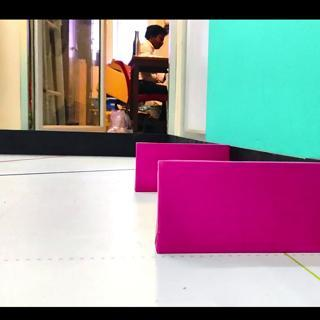xparking: (161, 170, 314, 252), (139, 142, 154, 190)
